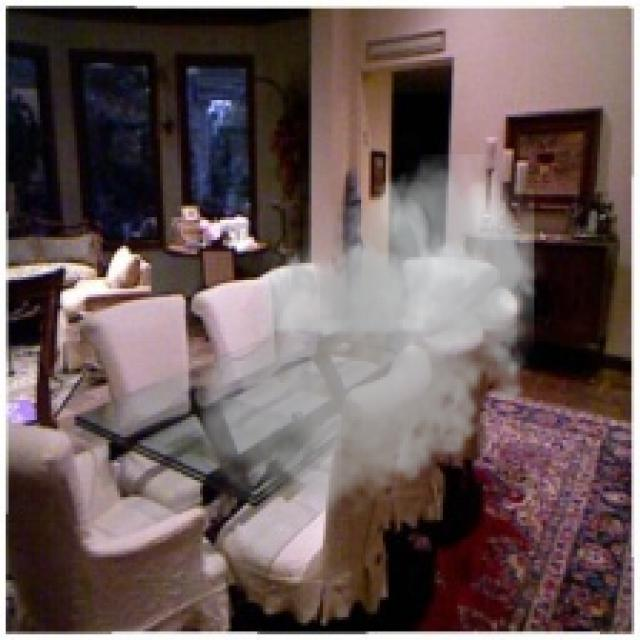smoke: (192, 154, 548, 529)
